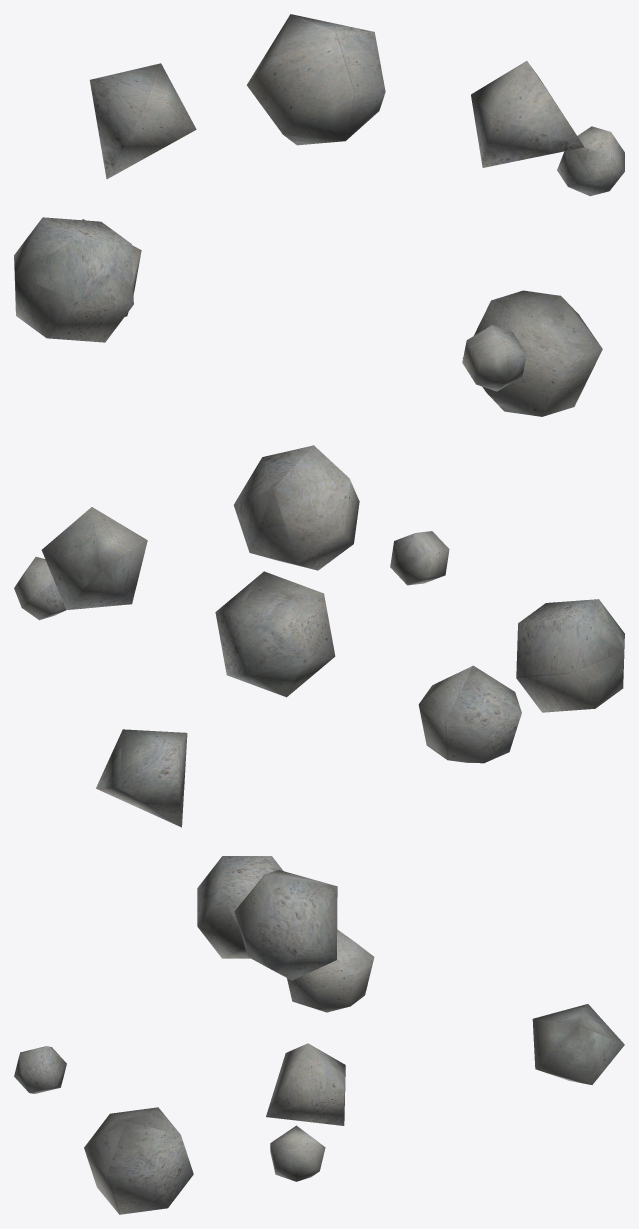
The model's file is stone4.obj.
3 views of the same model, one above another, from view 1: azimuth 30°, elevation 25°; view 2: azimuth 150°, elevation 25°; view 3: azimuth 270°, elevation 25° (orthographic). The views are drawn at different scales.
Parts seen in each view (by area): view 1: Sphere005, Sphere001, Sphere008, Sphere007, Sphere003, Sphere006, Sphere002; view 2: Sphere005, Sphere008, Sphere001, Sphere003, Sphere004, Sphere007, Sphere002, Sphere006; view 3: Sphere005, Sphere008, Sphere007, Sphere003, Sphere001, Sphere004, Sphere006, Sphere002.
Boxes of the visible parts, left/top/right/bottom form: Sphere005: left=247, top=14, right=385, bottom=145; Sphere001: left=14, top=217, right=133, bottom=342; Sphere008: left=462, top=290, right=602, bottom=416; Sphere007: left=89, top=63, right=196, bottom=178; Sphere003: left=471, top=61, right=584, bottom=167; Sphere006: left=557, top=126, right=624, bottom=196; Sphere002: left=462, top=325, right=526, bottom=391; Sphere005: left=233, top=445, right=359, bottom=570; Sphere008: left=215, top=571, right=335, bottom=697; Sphere001: left=516, top=599, right=624, bottom=712; Sphere003: left=41, top=507, right=147, bottom=609; Sphere004: left=418, top=665, right=521, bottom=763; Sphere007: left=96, top=729, right=187, bottom=827; Sphere002: left=390, top=531, right=449, bottom=585; Sphere006: left=14, top=557, right=65, bottom=620; Sphere005: left=234, top=870, right=337, bottom=980; Sphere008: left=84, top=1107, right=193, bottom=1214; Sphere007: left=532, top=1004, right=624, bottom=1084; Sphere003: left=266, top=1043, right=345, bottom=1125; Sphere001: left=197, top=856, right=283, bottom=958; Sphere004: left=287, top=929, right=374, bottom=1012; Sphere006: left=270, top=1125, right=325, bottom=1181; Sphere002: left=14, top=1046, right=66, bottom=1093.
Size of the model in its own units: 150 by 79.36 by 153.
Materials: 1 (1 with a texture image).
